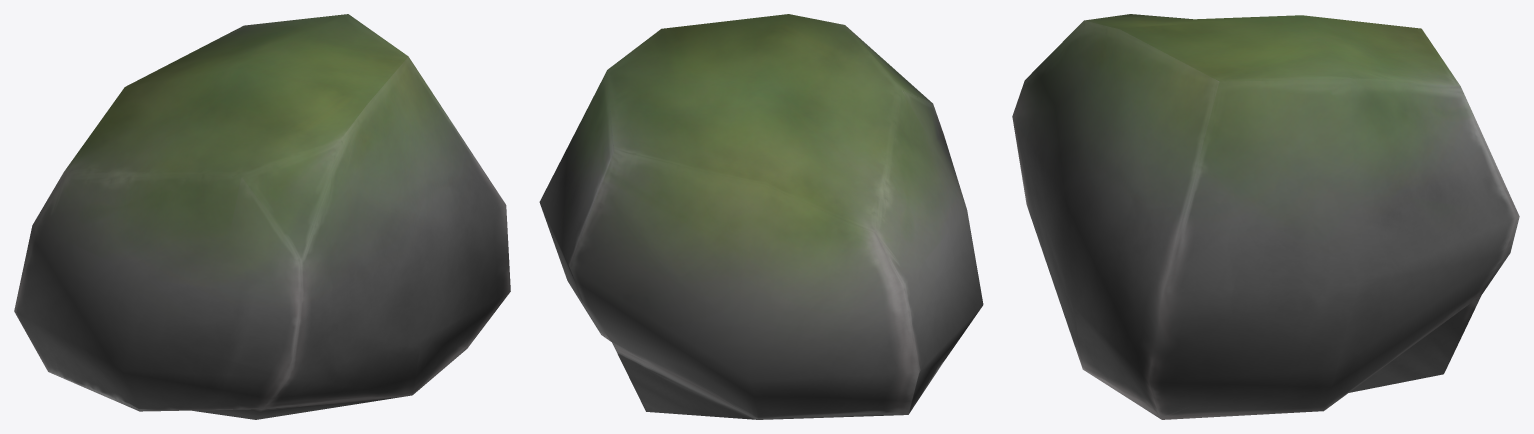
Rendered from rock_2.fbx.
3 renders of one model, left to right at view 1: azimuth 30°, elevation 25°; view 2: azimuth 150°, elevation 25°; view 3: azimuth 270°, elevation 25°, orthographic. The views are drawn at different scales.
Parts seen in each view (by area): view 1: Cube; view 2: Cube; view 3: Cube.
Boxes of the visible parts, <box> form: Cube: <box>14,14,510,419</box>; Cube: <box>539,14,983,419</box>; Cube: <box>1012,14,1519,419</box>.
Bounding box in the file's own units: 92.45 × 68.5 × 88.95.
1 material, 1 textured.
